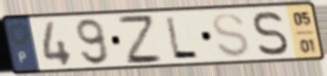4: (40, 19, 75, 68)
9: (74, 17, 110, 67)
L: (163, 15, 201, 60)
S: (210, 11, 252, 60), (251, 10, 291, 58)
Z: (115, 14, 166, 67)
